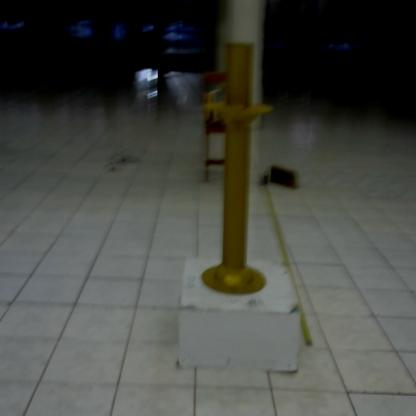pole: (204, 39, 277, 299)
